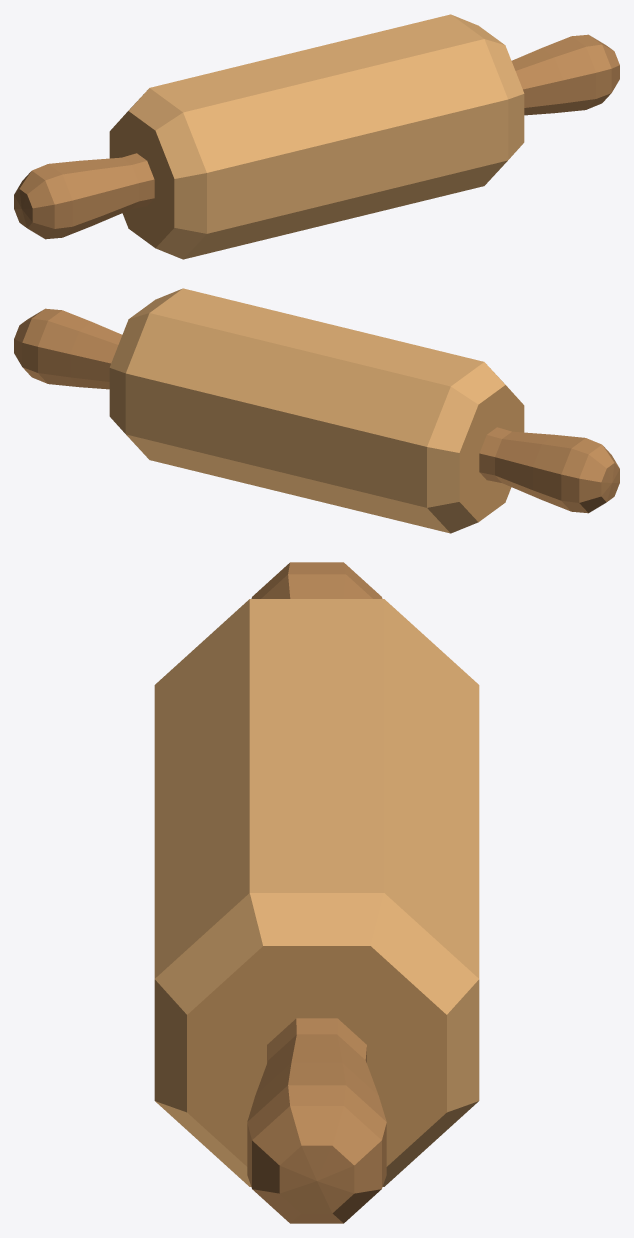
Rendered from 14-wooden-rolling-pin.glb.
3 renders of one model, top to bottom at view 1: azimuth 30°, elevation 25°; view 2: azimuth 150°, elevation 25°; view 3: azimuth 270°, elevation 25°, orthographic. The views are drawn at different scales.
Visible parts, largest first — view 1: 02 Right shaped wooden handle; view 2: 02 Right shaped wooden handle; view 3: 02 Right shaped wooden handle.
Part boxes in pixels (left/top/right/bottom): 02 Right shaped wooden handle: left=14, top=14, right=619, bottom=259; 02 Right shaped wooden handle: left=14, top=288, right=619, bottom=533; 02 Right shaped wooden handle: left=154, top=562, right=479, bottom=1223.
Bounding box in the file's own units: 3.88 × 0.9239 × 0.9239.
